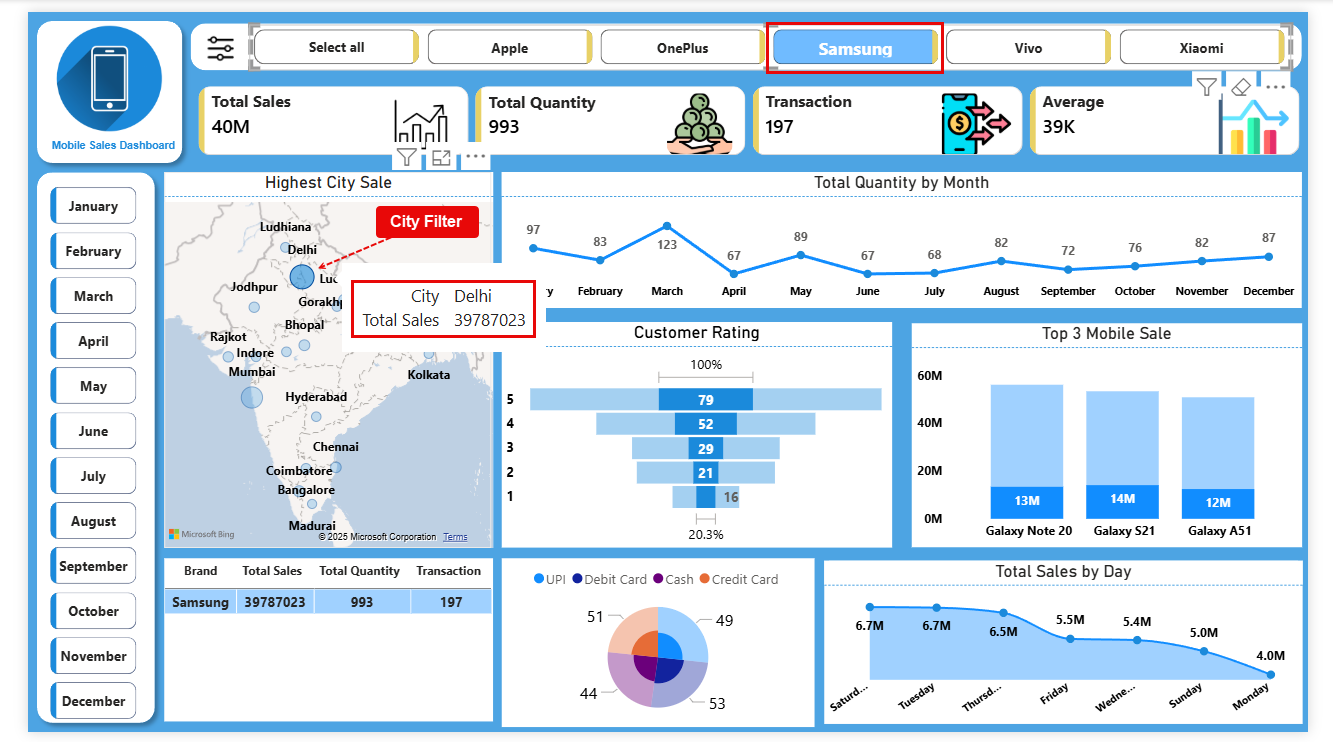

What the dashboard file says about the page in this screenshot:
{"tool":"powerbi","page":{"name":"Page 1","canvas":[1280,720],"ordinal":0},"visuals":[{"type":"shape","box":[0,0,163.1,160],"z":0,"group":"g1"},{"type":"image","box":[12.4,14,138.1,105.4],"z":1000,"group":"g1"},{"type":"shape","box":[0,151.4,135.7,568.6],"z":2000},{"type":"advancedSlicerVisual","fields":{"Values":["Sales Data.Date .Variation.Date Hierarchy.Month"]},"box":[17.1,170,100,550],"z":3000},{"type":"cardVisual","fields":{"Data":["Sales Data.Total Sales","Sales Data.Total Quantity","Sales Data.Transaction","Sales Data.Average"]},"box":[162.9,65.7,1117.1,85.7],"z":4000},{"type":"map","title":"Highest City Sale","fields":{"Category":["Sales Data.City"],"Size":["Sales Data.Total Sales"]},"box":[135.7,160,328.6,375.7],"z":5000},{"type":"lineChart","fields":{"Y":["Sales Data.Total Quantity"],"Category":["Sales Data.Date .Variation.Date Hierarchy.Month","Sales Data.Date .Variation.Date Hierarchy.Day"]},"box":[474.3,160,800,135.7],"z":6000},{"type":"clusteredColumnChart","title":"Top 3 Mobile Sale","fields":{"Category":["Sales Data.Mobile Model"],"Y":["Sales Data.Total Sales"]},"box":[884.3,311.4,390,224.3],"z":7000},{"type":"pieChart","fields":{"Y":["Sales Data.Transaction"],"Category":["Sales Data.Payment Method"]},"box":[474.3,545.7,312.9,168.6],"z":8000},{"type":"funnel","title":"Customer Rating","fields":{"Category":["Sales Data.Customer Ratings"],"Y":["CountNonNull(Sales Data.Customer Ratings)"]},"box":[474.3,310,390,225.7],"z":9000},{"type":"areaChart","title":"Total Sales by Day","fields":{"Y":["Sales Data.Total Sales"],"Category":["Sales Data.Day Name"]},"box":[795.7,548.6,478.6,162.9],"z":10000},{"type":"tableEx","fields":{"Values":["Sales Data.Brand","Sales Data.Total Sales","Sales Data.Total Quantity","Sales Data.Transaction"]},"box":[135.7,545.7,328.6,162.9],"z":11000},{"type":"textbox","box":[6.9,118.1,158.8,33],"z":12000,"group":"g1"},{"type":"shape","box":[162.9,11.4,1111.4,47.1],"z":13000},{"type":"image","box":[177.1,15.7,30,40],"z":14000},{"type":"advancedSlicerVisual","fields":{"Values":["Sales Data.Brand"]},"box":[221.4,12.9,1042.9,45.7],"z":15000},{"type":"group","id":"g1","title":"Group 1","box":[0,0,165.7,160],"z":18001}]}

Visuals, with their boxes in screenshot pixels (x1, y1, x2, y2), scaled from the page's 1280x720 canvas onto the 1333x742 screenshot:
shape: box(0, 0, 170, 165)
image: box(13, 14, 157, 123)
shape: box(0, 156, 141, 741)
advancedSlicerVisual - Sales Data.Date .Variation.Date Hierarchy.Month: box(18, 175, 122, 741)
cardVisual - Sales Data.Total Sales x Sales Data.Total Quantity: box(170, 68, 1332, 156)
"Highest City Sale" map: box(141, 165, 484, 552)
lineChart - Sales Data.Total Quantity x Sales Data.Date .Variation.Date Hierarchy.Month: box(494, 165, 1327, 305)
"Top 3 Mobile Sale" clusteredColumnChart: box(921, 321, 1327, 552)
pieChart - Sales Data.Transaction x Sales Data.Payment Method: box(494, 562, 820, 736)
"Customer Rating" funnel: box(494, 319, 900, 552)
"Total Sales by Day" areaChart: box(829, 565, 1327, 733)
tableEx - Sales Data.Brand x Sales Data.Total Sales: box(141, 562, 484, 730)
textbox: box(7, 122, 173, 156)
shape: box(170, 12, 1327, 60)
image: box(184, 16, 216, 57)
advancedSlicerVisual - Sales Data.Brand: box(231, 13, 1317, 60)
"Group 1" group: box(0, 0, 173, 165)
